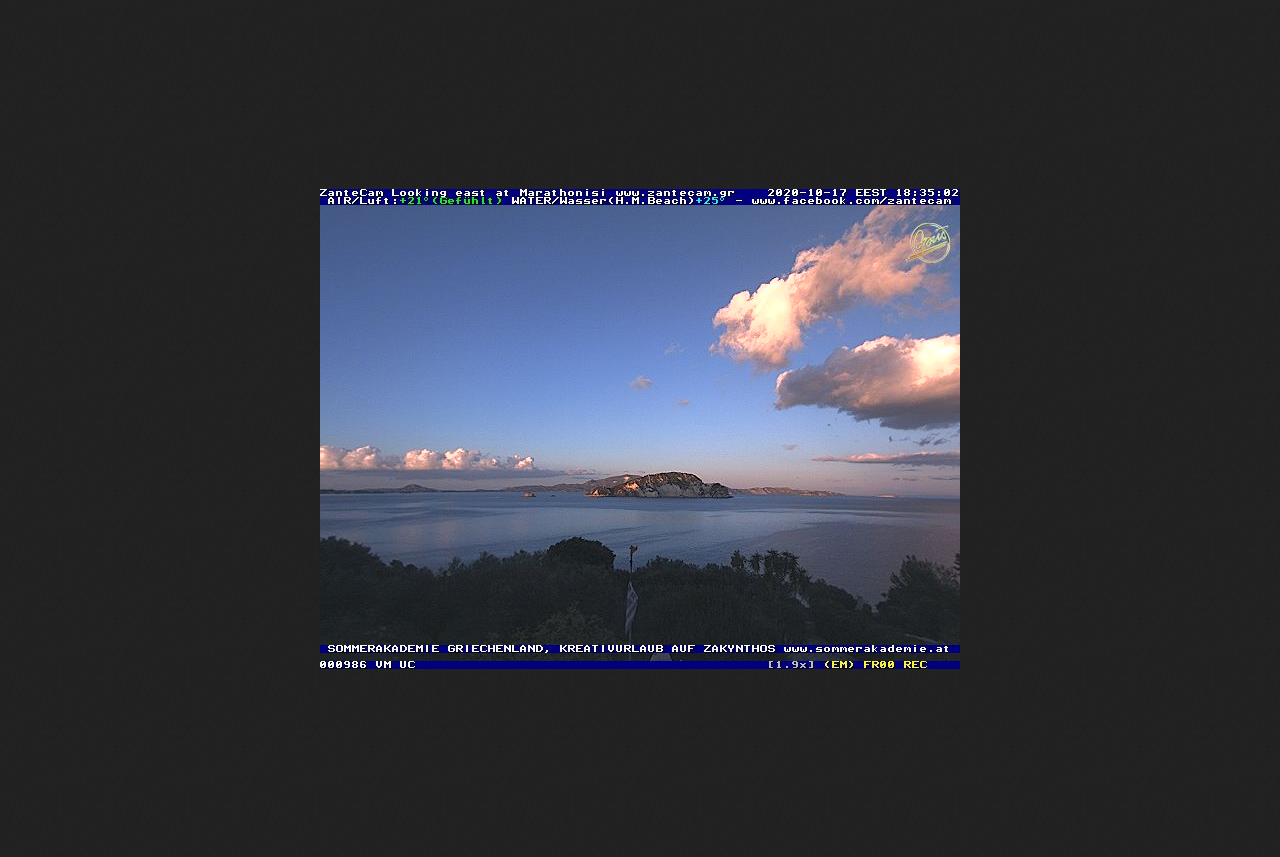no: (624, 578, 638, 636)
